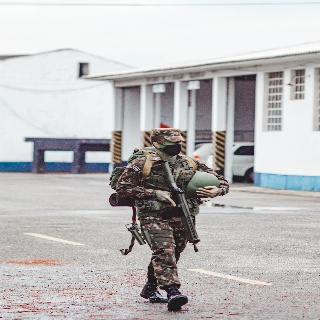rifle: (150, 160, 206, 253)
